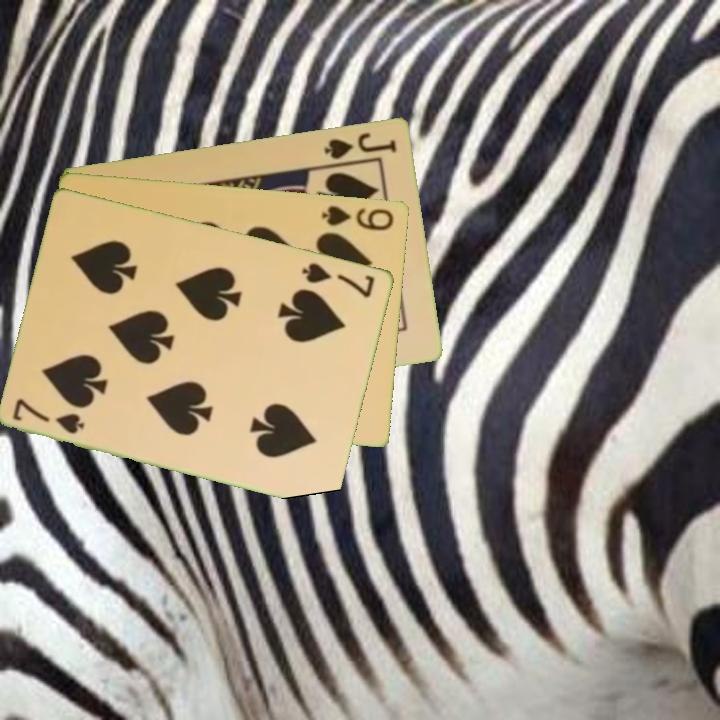7s: (299, 258, 378, 301), (9, 394, 88, 437)
9s: (318, 201, 397, 233)
Js: (321, 128, 400, 162)
